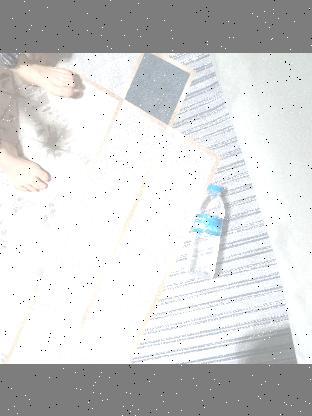Plastic Bottle: (187, 184, 227, 280)
